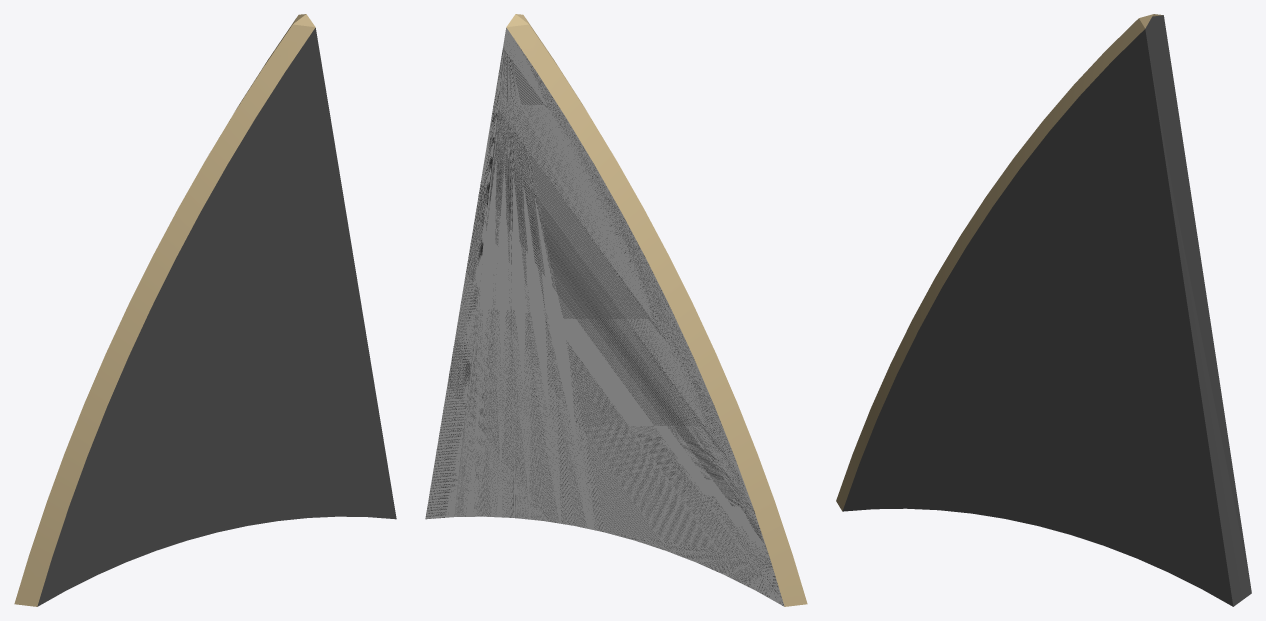
Rendered from fin.dae.
The picture shows the model from 3 angles, left to right: view 1: azimuth 30°, elevation 25°; view 2: azimuth 150°, elevation 25°; view 3: azimuth 330°, elevation 25°; orthographic projection. The views are drawn at different scales.
Visible parts, largest first — view 1: SketchUp (×2); view 2: SketchUp (×2); view 3: SketchUp (×2).
Part boxes in pixels (bbox=[...]): SketchUp (×2): bbox=[14, 14, 396, 606]; SketchUp (×2): bbox=[425, 14, 807, 606]; SketchUp (×2): bbox=[836, 14, 1251, 606].
Size of the model in its own units: 199 by 15.75 by 264.
